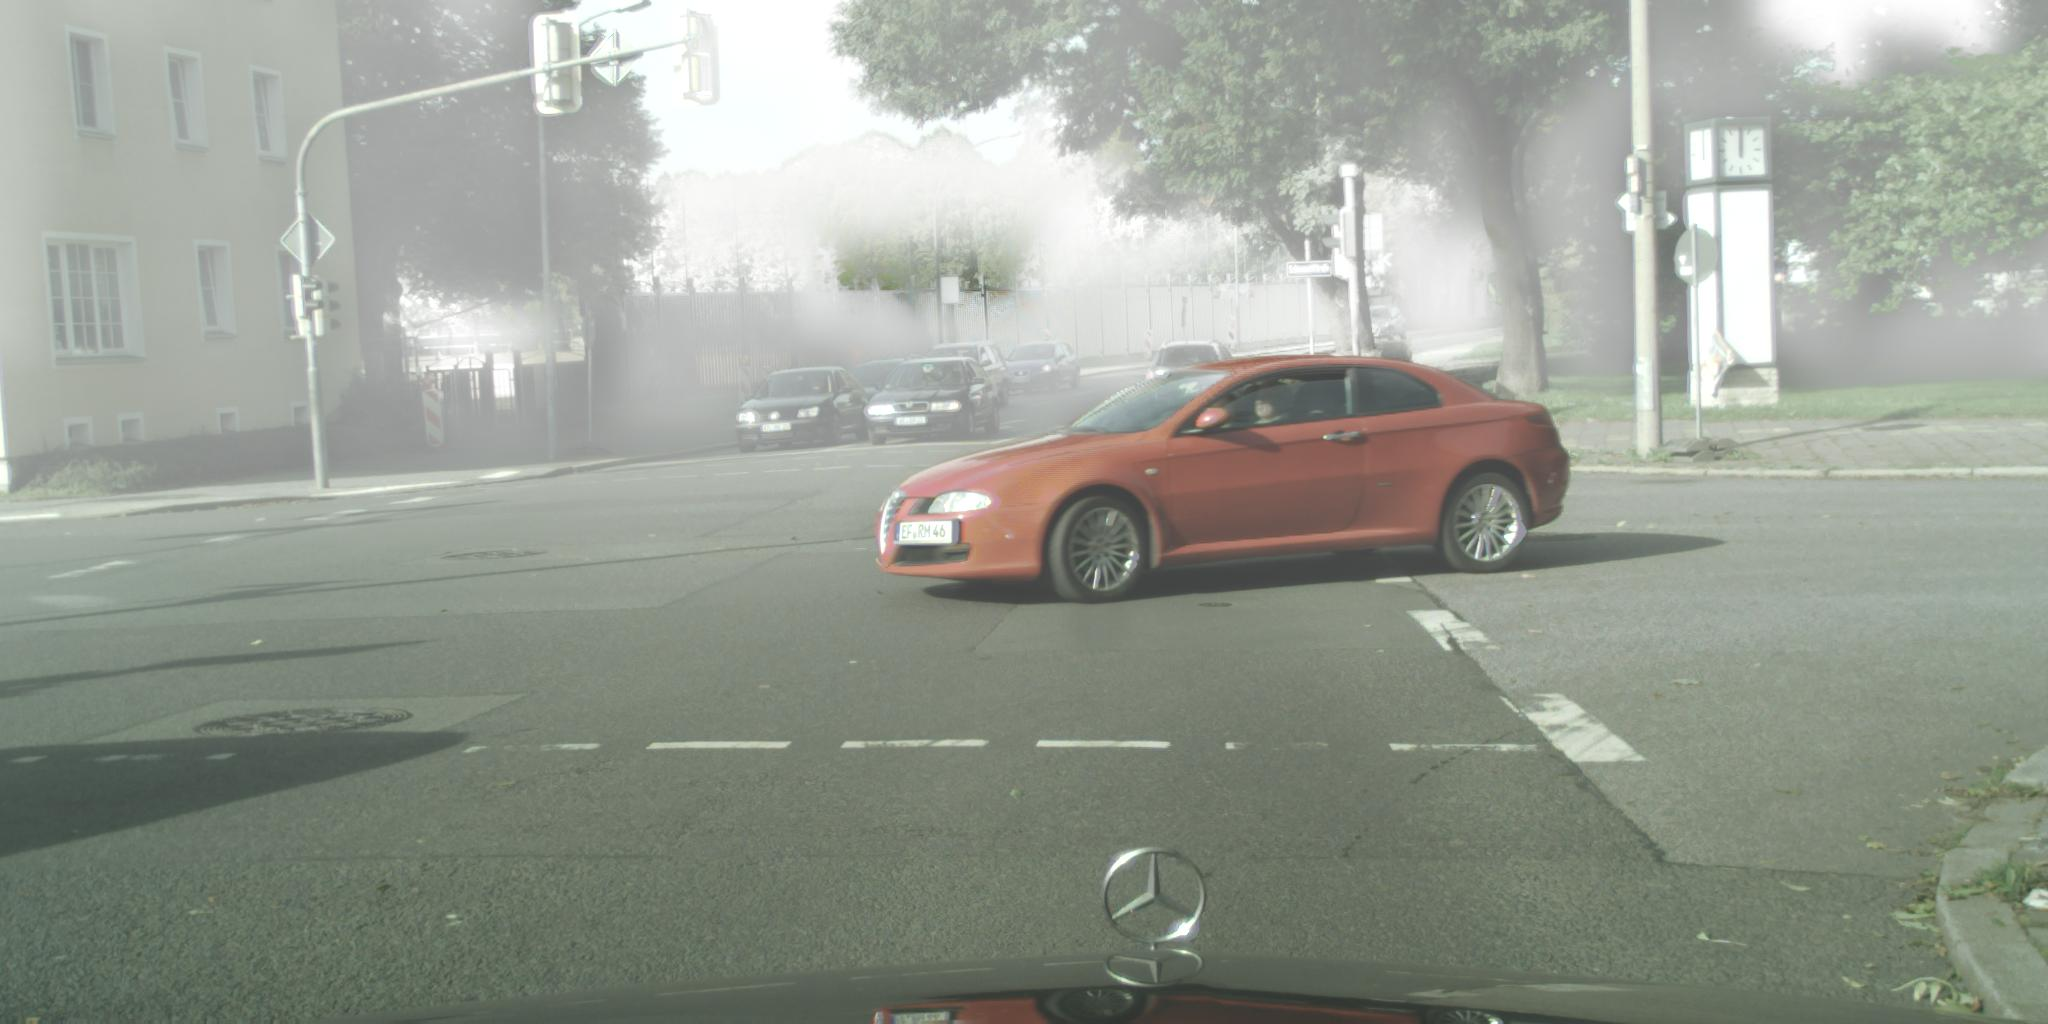car: (876, 357, 1573, 606), (865, 357, 1003, 448), (738, 368, 872, 455), (917, 344, 1014, 408), (845, 357, 934, 410), (993, 342, 1083, 394), (1145, 341, 1240, 388), (1358, 307, 1409, 344)
